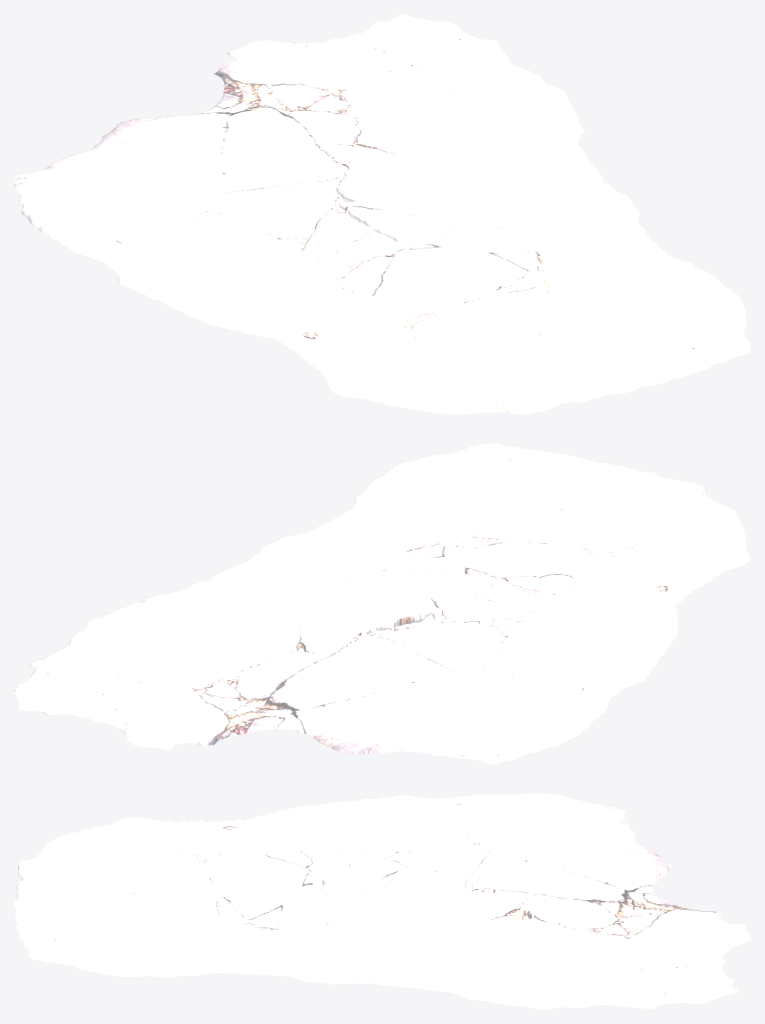
The model's file is Road_hump.glb.
3 views of the same model, one above another, from view 1: azimuth 30°, elevation 25°; view 2: azimuth 150°, elevation 25°; view 3: azimuth 270°, elevation 25° (orthographic). The views are drawn at different scales.
Visible parts, largest first — view 1: 路面凸起; view 2: 路面凸起; view 3: 路面凸起.
Part boxes in pixels (x1=…): 路面凸起: x1=14, y1=14, x2=750, y2=414; 路面凸起: x1=14, y1=443, x2=750, y2=764; 路面凸起: x1=14, y1=793, x2=750, y2=1009.
Size of the model in its own units: 2.41 by 0.1403 by 3.5.
1 material, 1 textured.
